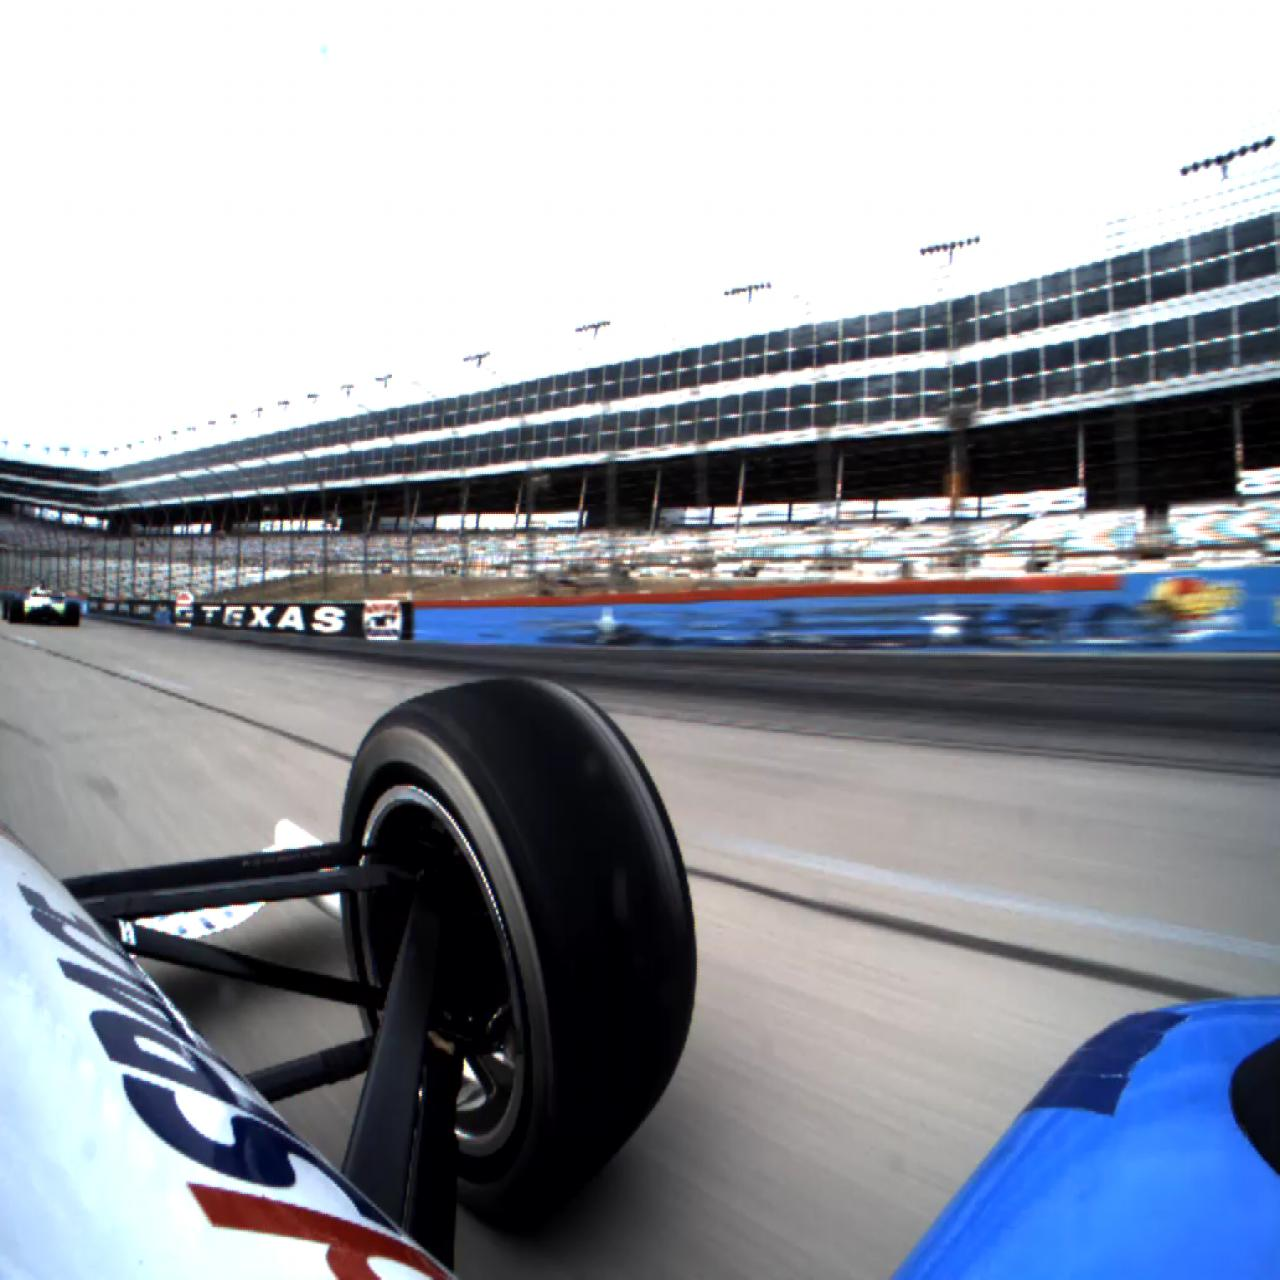AV: (0, 577, 81, 627)
Wheel: (339, 674, 700, 1210), (66, 600, 80, 628), (9, 598, 24, 623), (1, 594, 15, 620)
